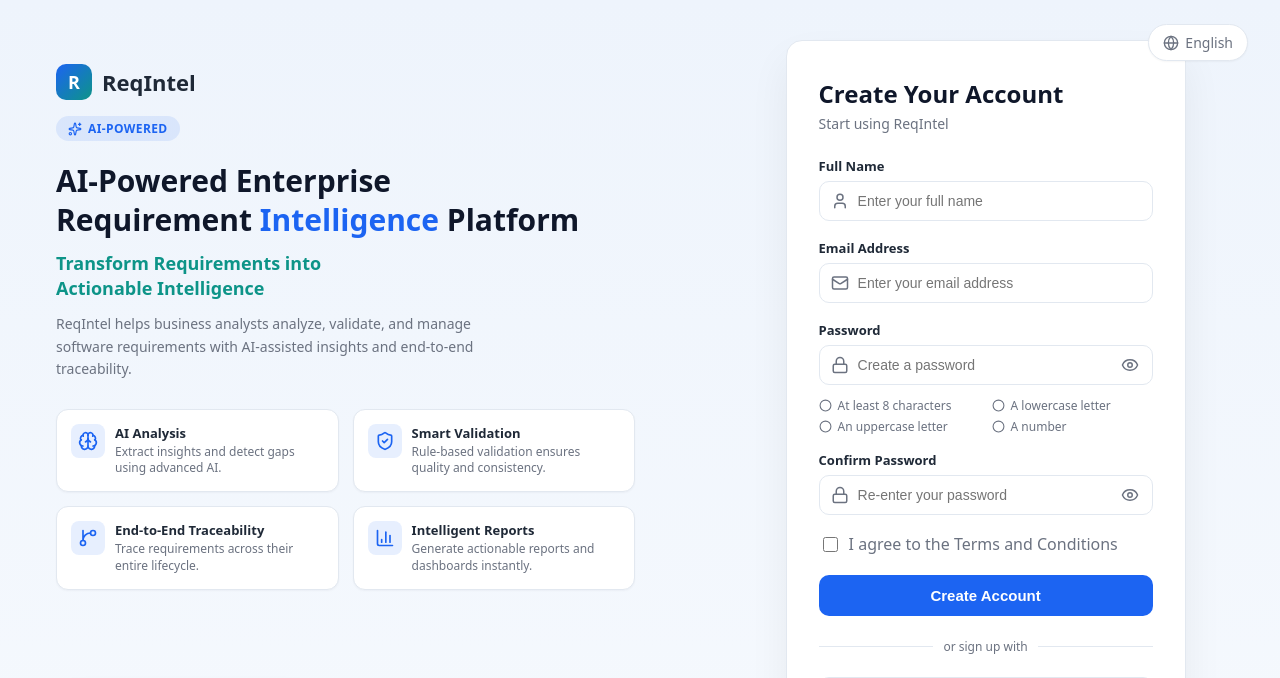
Scenario: RegisterPage › surfaces backend errors
Step 1. Type "Ada Lovelace" into the field labelled "Full Name" → coordinates (986, 201), box [819,181,1153,221]
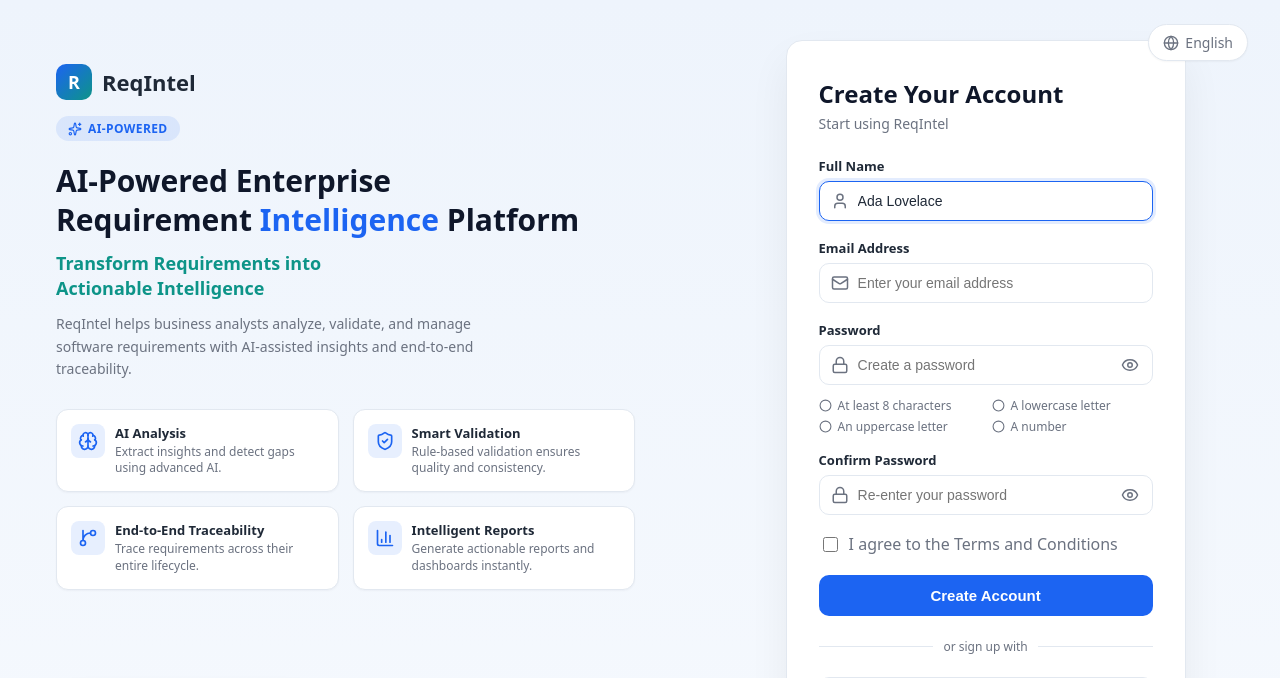
Step 2. Type "ada@example.com" into the field labelled "Email Address" → coordinates (986, 283), box [819,263,1153,303]
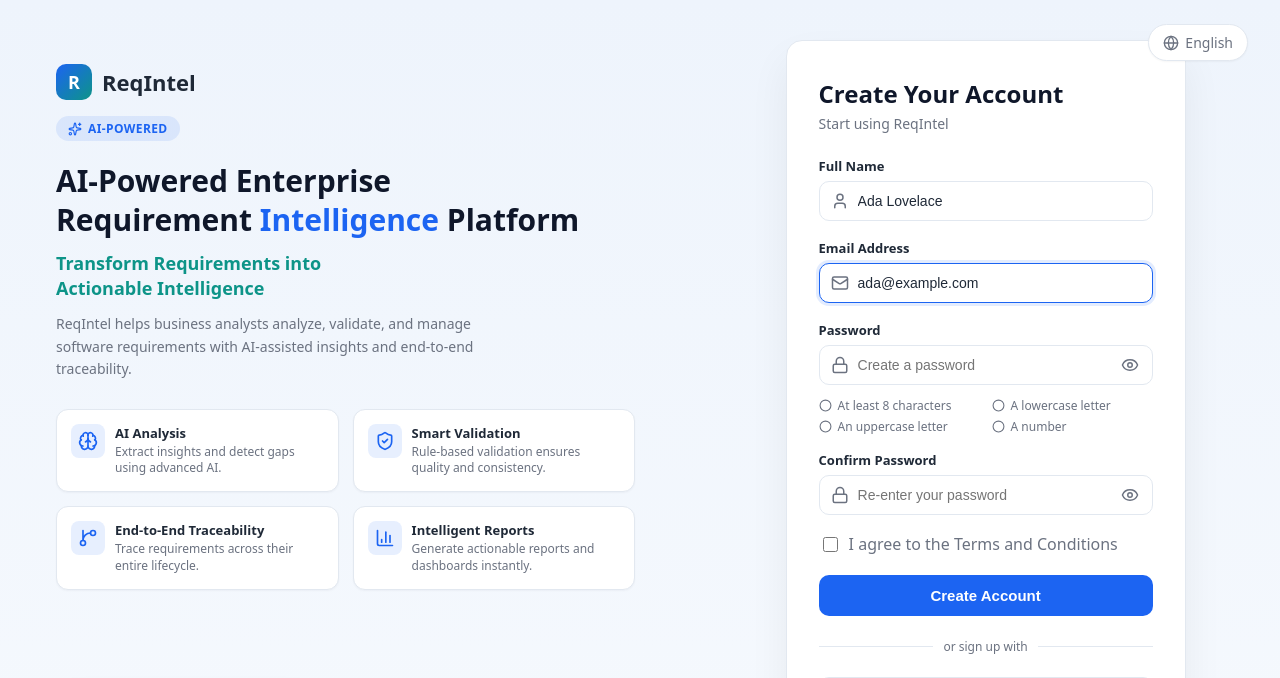
Step 3. Type "Longenough1" into the password field labelled "Password" → coordinates (986, 365), box [819,345,1153,385]
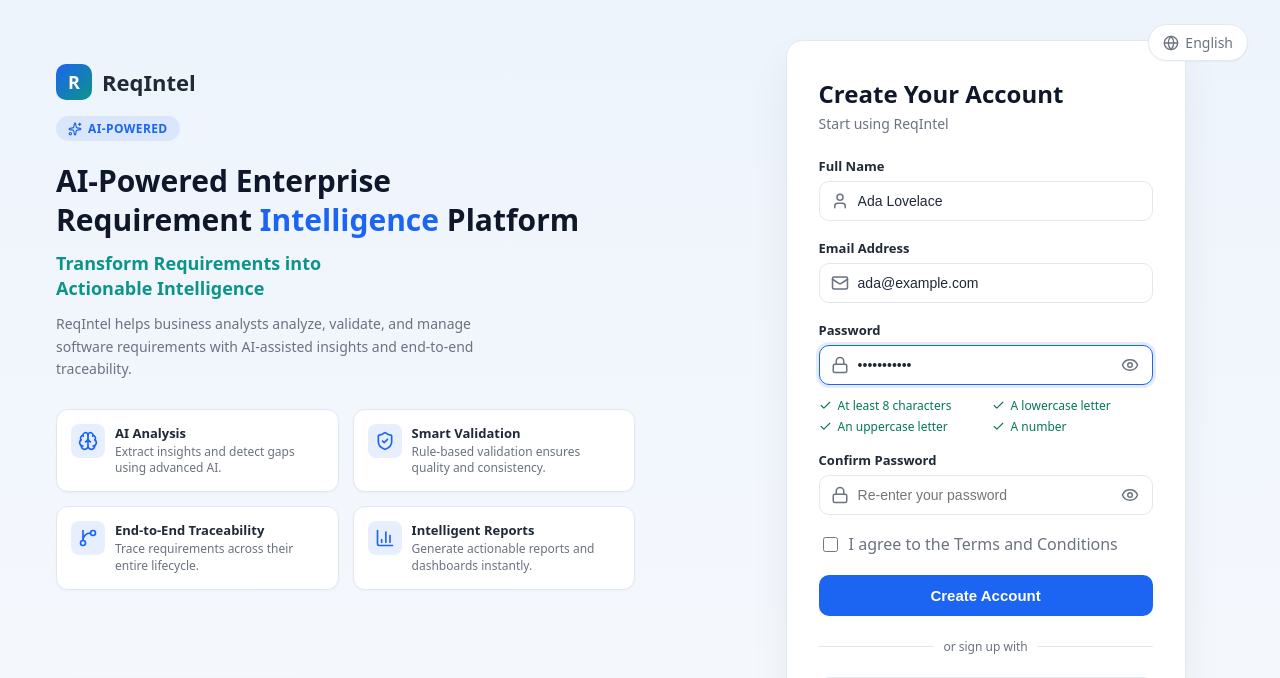
Step 4. Type "Longenough1" into the password field labelled "Confirm Password" → coordinates (986, 495), box [819,475,1153,515]
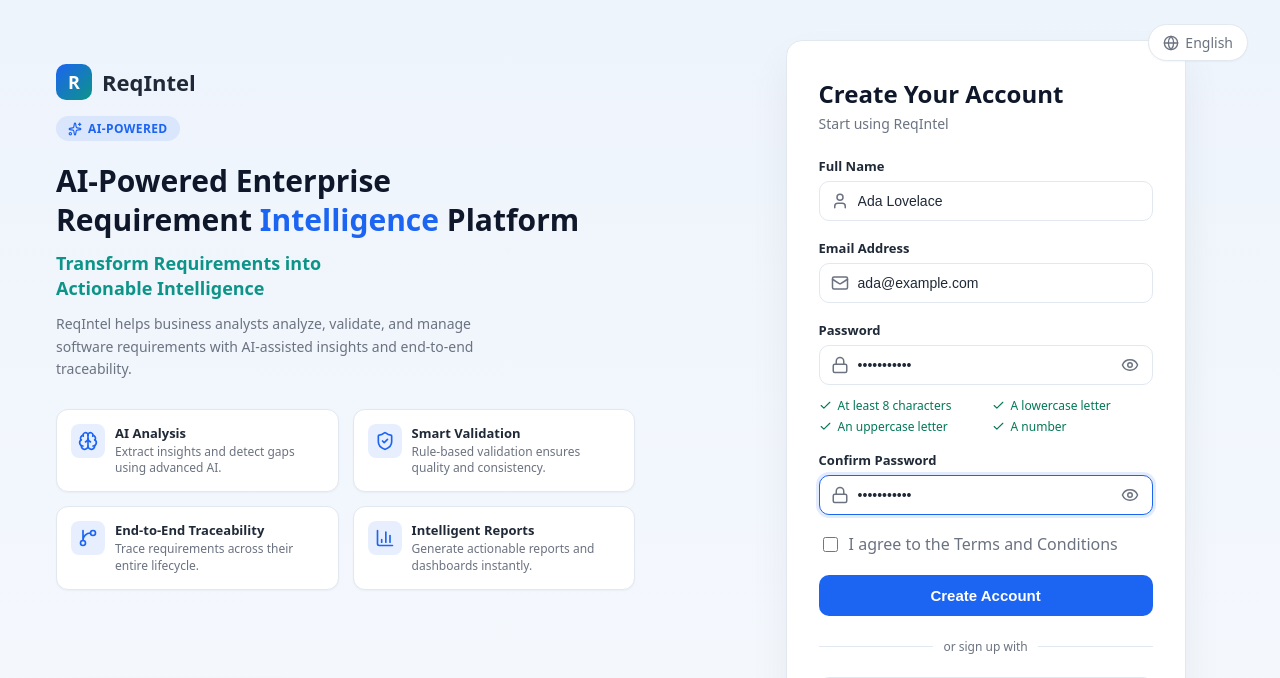
Step 5. Click the checkbox labelled "I agree to the Terms and Conditions" → coordinates (830, 544), box [823,536,838,552]
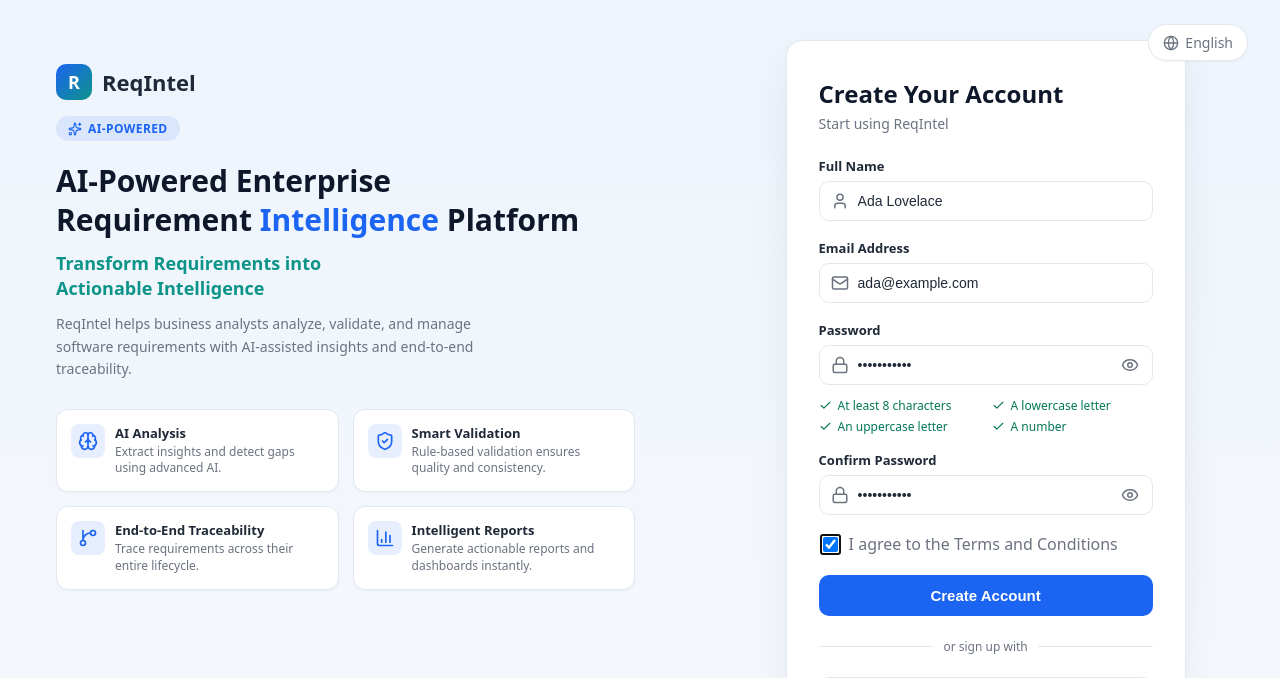
Step 6. Click the button "Create Account" → coordinates (986, 596), box [819,575,1153,616]
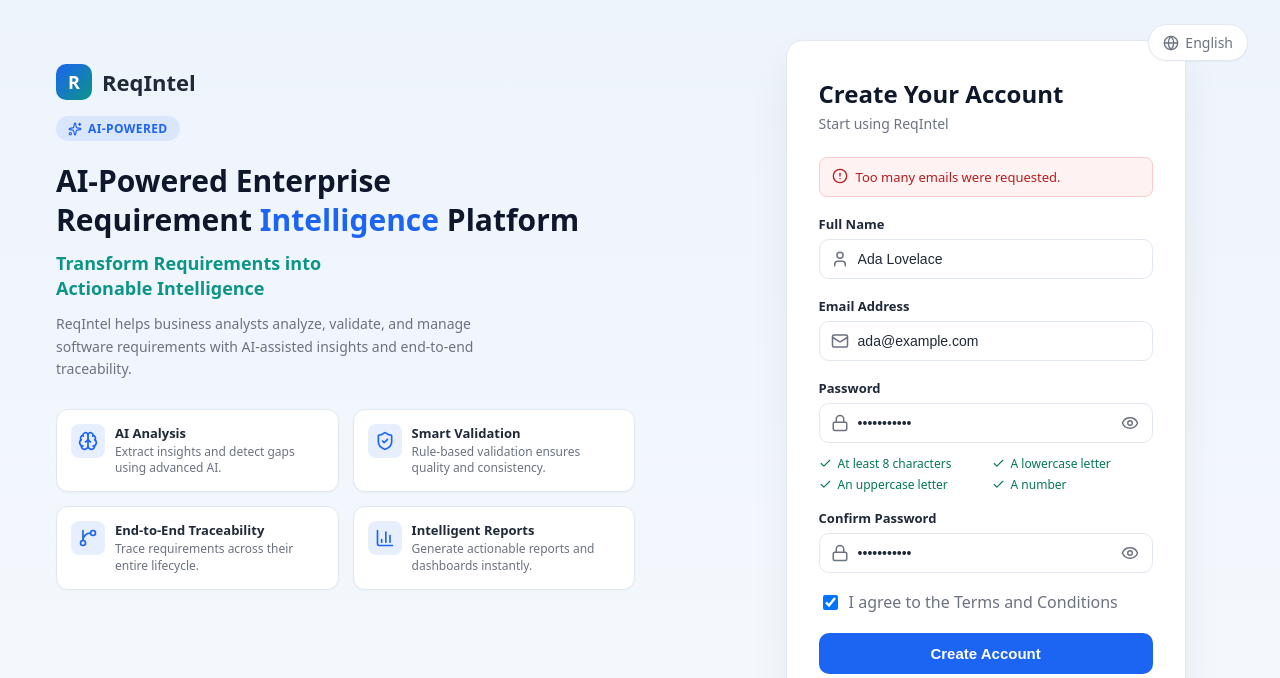
expect the message shows "Too many emails": met, box [856,168,1060,186]
